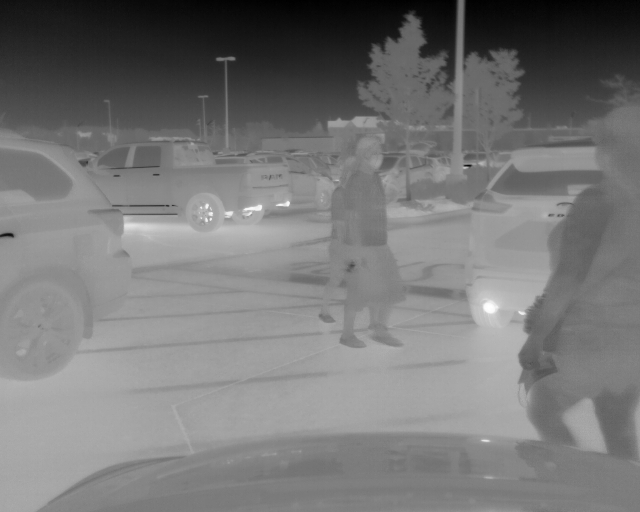car: (1, 128, 135, 380), (463, 139, 608, 328), (86, 141, 295, 234), (241, 151, 335, 215), (377, 154, 447, 204), (462, 151, 508, 173)
people: (517, 105, 640, 461), (339, 134, 408, 349), (317, 157, 357, 324)
